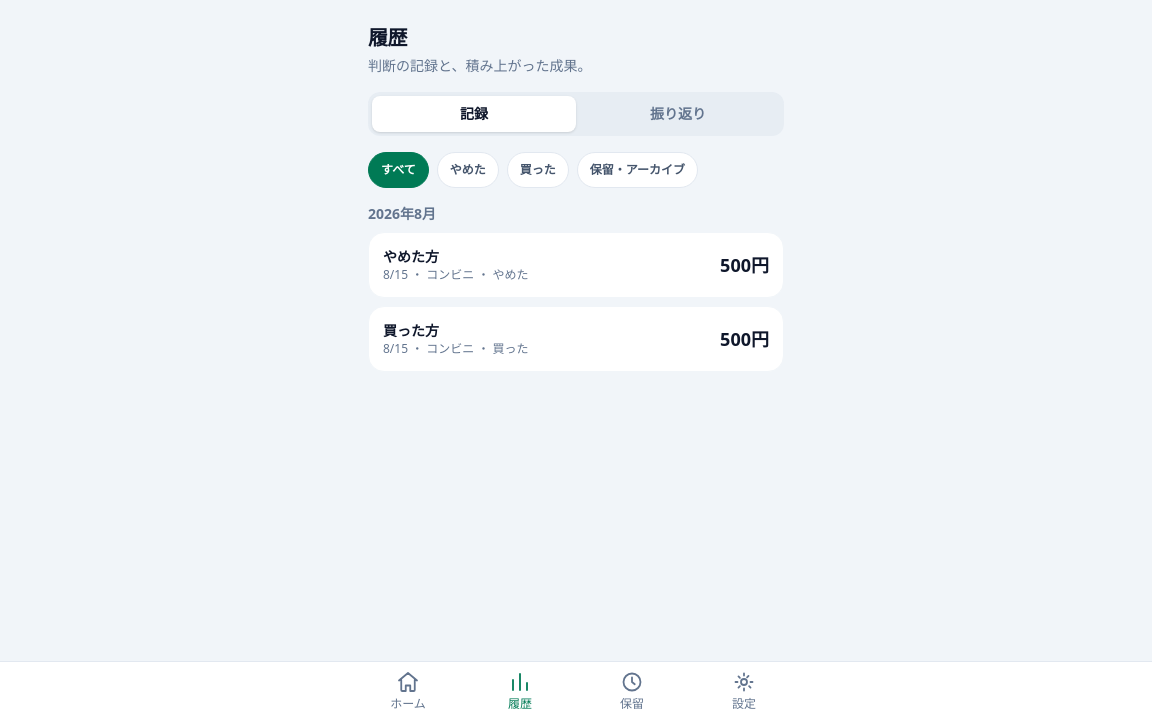
Test case: 履歴画面 › 判断結果で絞り込める
Click the button "買った" at (538, 170), box [507, 152, 569, 188]
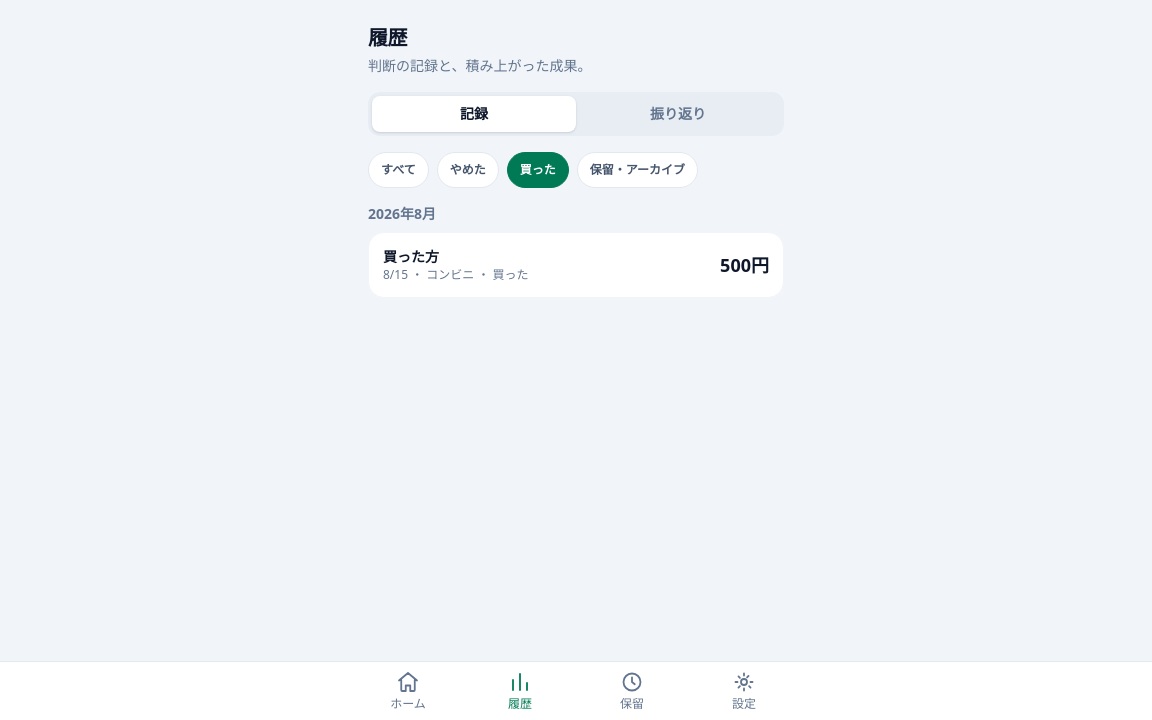
expect the text "買った方" is shown: met, box [383, 247, 439, 266]
expect the button "やめた方" is gone: met
